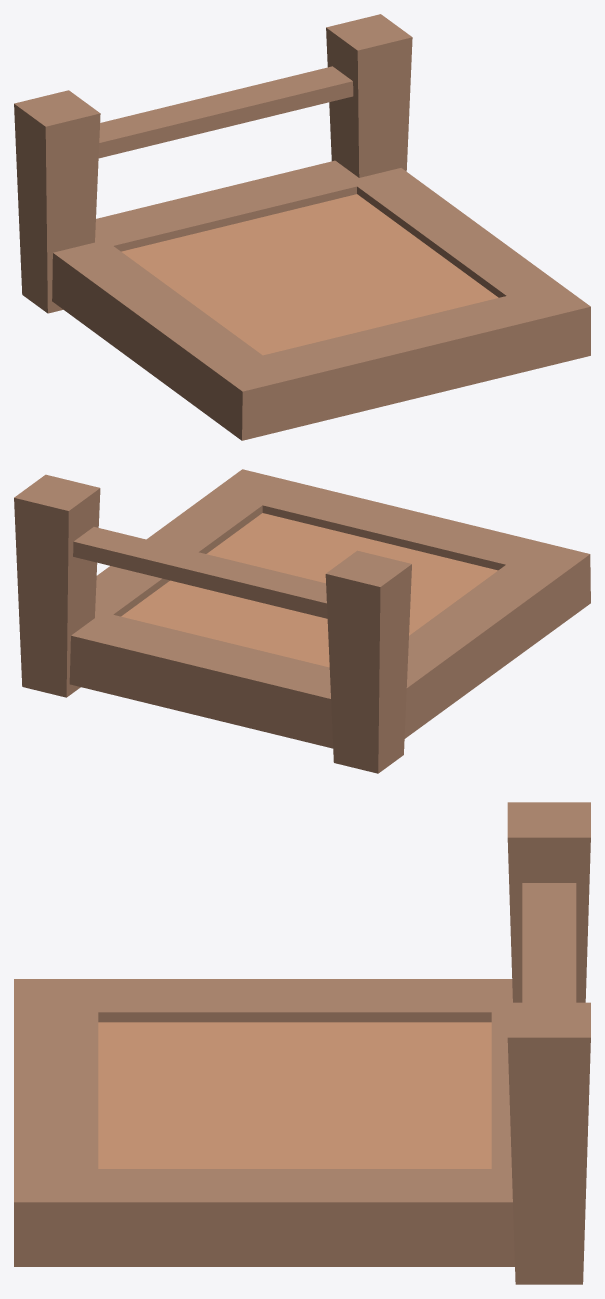
Rendered from bridge_3_part_1.fbx.
The picture shows the model from 3 angles, top to bottom: view 1: azimuth 30°, elevation 25°; view 2: azimuth 150°, elevation 25°; view 3: azimuth 270°, elevation 25°; orthographic projection. The views are drawn at different scales.
Visible parts, largest first — view 1: bridge_3_part_1; view 2: bridge_3_part_1; view 3: bridge_3_part_1.
Part boxes in pixels (x1,y1,x2,y2): bridge_3_part_1: [14, 14, 590, 440]; bridge_3_part_1: [14, 469, 590, 773]; bridge_3_part_1: [14, 802, 590, 1284].
Size of the model in its own units: 10.11 by 5.01 by 10.47.
